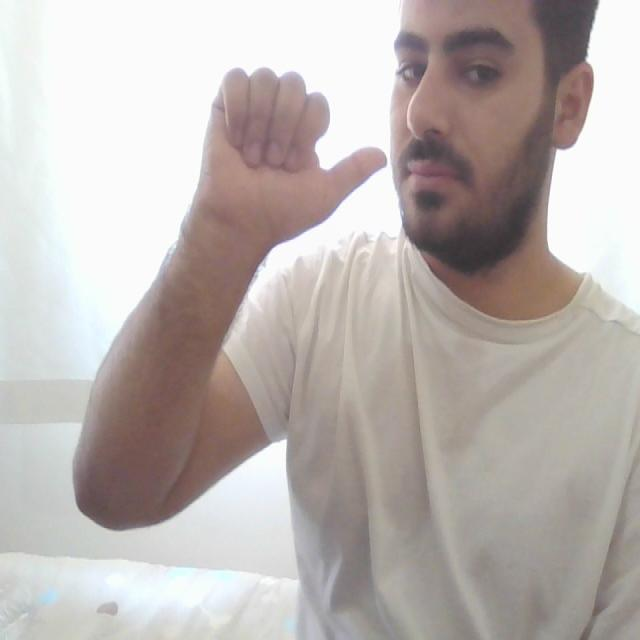icmek: (146, 64, 424, 234)
